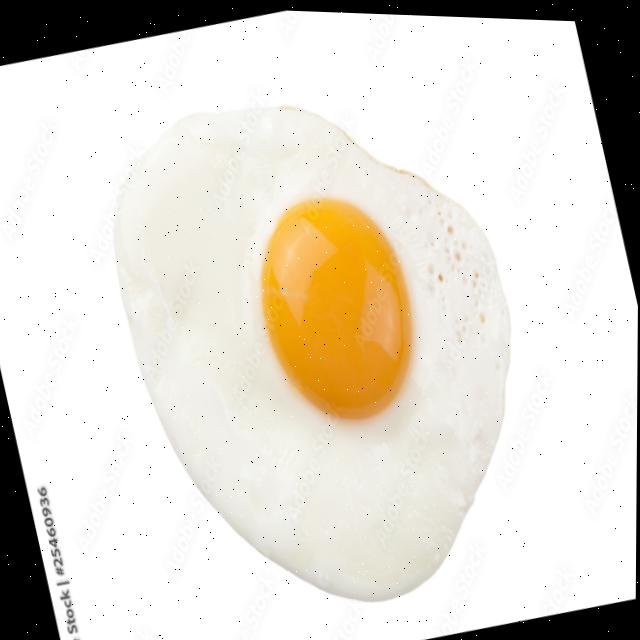Egg: (114, 105, 510, 598)
